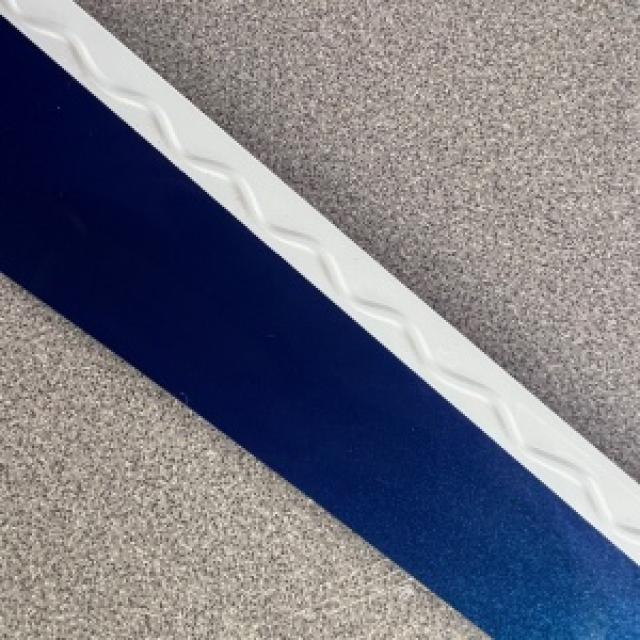healthy: (0, 275, 452, 634)
